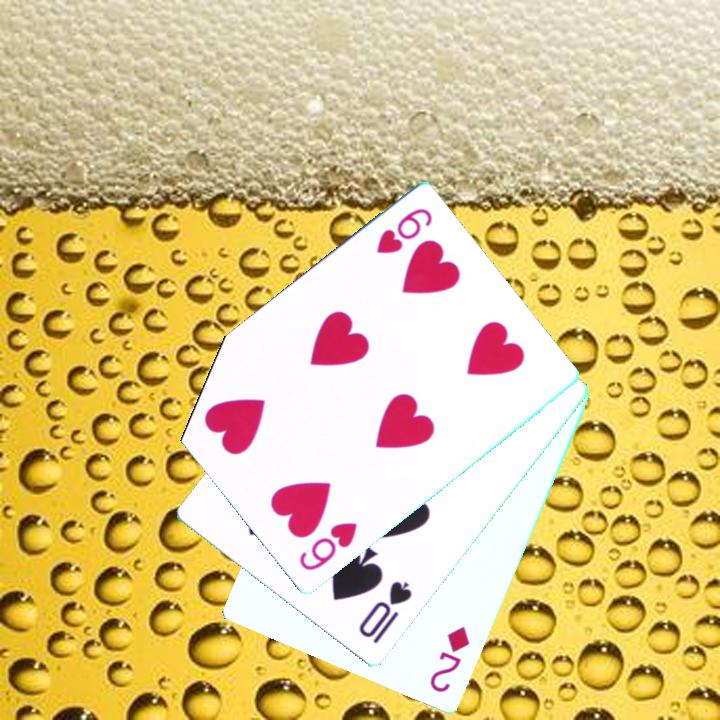10s: (355, 578, 415, 647)
2d: (426, 623, 473, 696)
6h: (295, 519, 360, 575), (372, 205, 436, 258)
